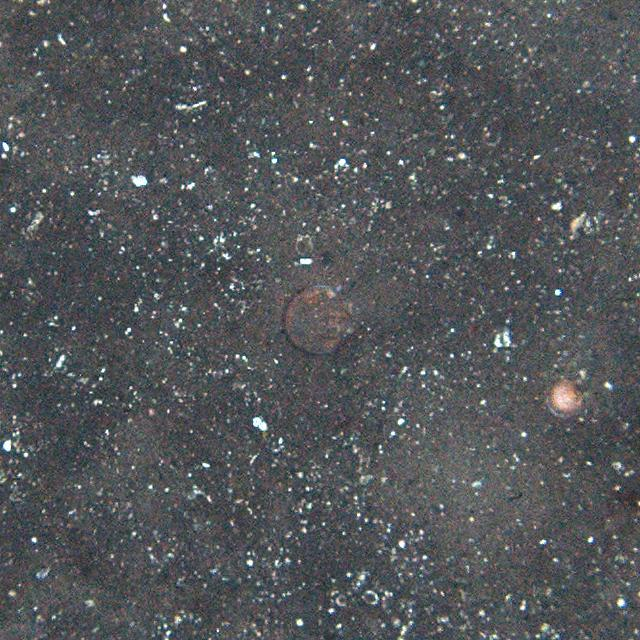scallop: (285, 283, 355, 355), (544, 372, 588, 421)
